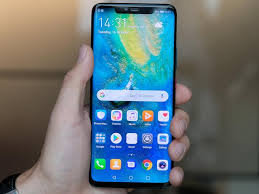huawei: (88, 2, 179, 188)
